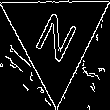N_SW: (29, 5, 82, 69)
